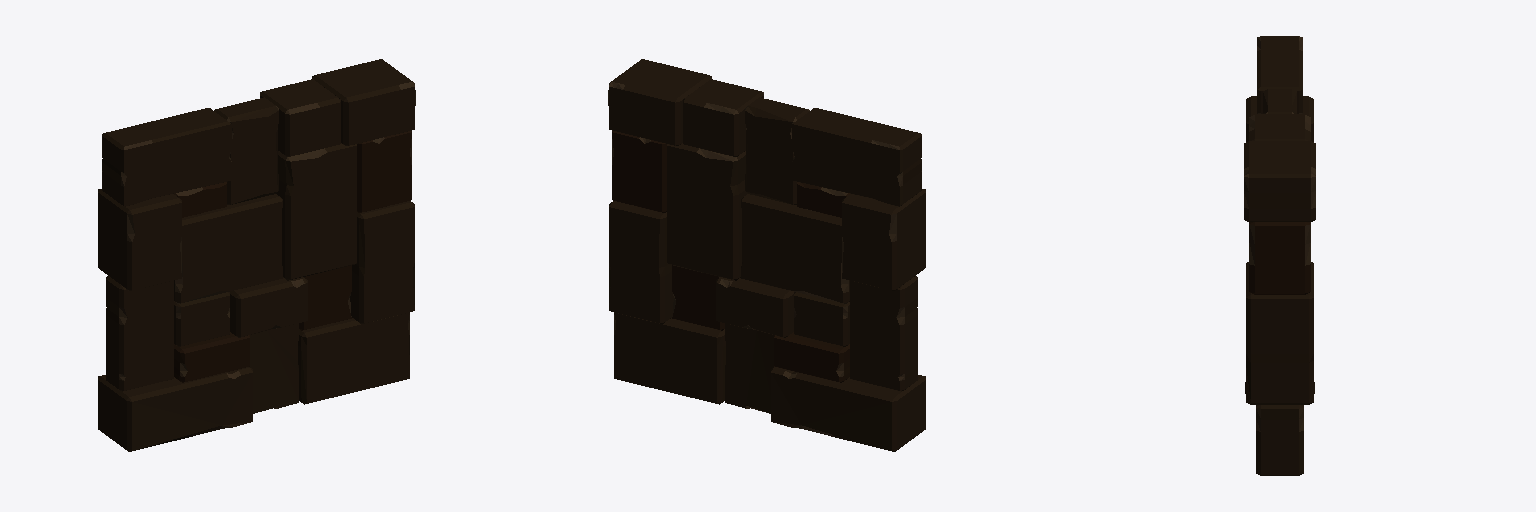
The model's file is Wall_Modular.obj.
3 renders of one model, left to right at view 1: azimuth 30°, elevation 25°; view 2: azimuth 150°, elevation 25°; view 3: azimuth 270°, elevation 25°, orthographic.
Parts seen in each view (by area): view 1: Wall_Modular_Cube.005; view 2: Wall_Modular_Cube.005; view 3: Wall_Modular_Cube.005.
Boxes of the visible parts, x1=… form: Wall_Modular_Cube.005: x1=98, y1=59, x2=415, y2=451; Wall_Modular_Cube.005: x1=608, y1=59, x2=925, y2=451; Wall_Modular_Cube.005: x1=1244, y1=36, x2=1315, y2=475.
Size of the model in its own units: 2 by 2.01 by 0.4381.